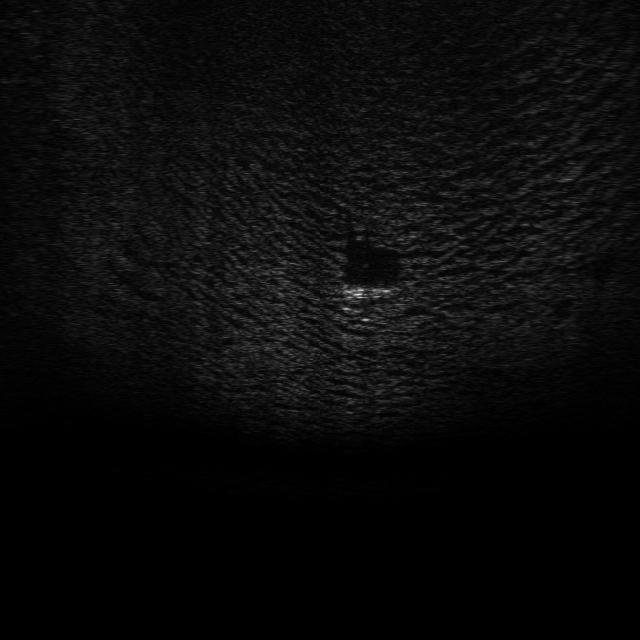plane: (337, 279, 403, 307)
